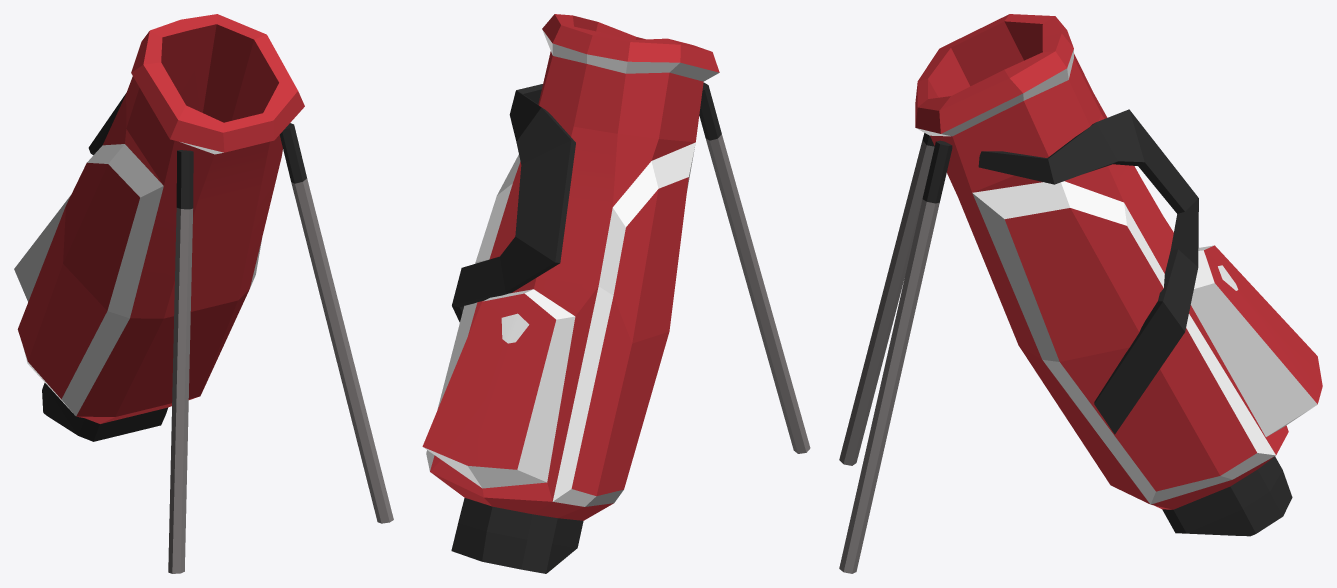
Rendered from sport_golf-bag.fbx.
3 views of the same model, side by side, from view 1: azimuth 30°, elevation 25°; view 2: azimuth 150°, elevation 25°; view 3: azimuth 270°, elevation 25° (orthographic). The views are drawn at different scales.
Visible parts, largest first — view 1: sport_golf_bag; view 2: sport_golf_bag; view 3: sport_golf_bag.
Boxes of the visible parts, x1,y1,x2,y2 form: sport_golf_bag: [14, 14, 393, 573]; sport_golf_bag: [422, 14, 810, 573]; sport_golf_bag: [839, 14, 1322, 573].
Size of the model in its own units: 101 by 199 by 180.
